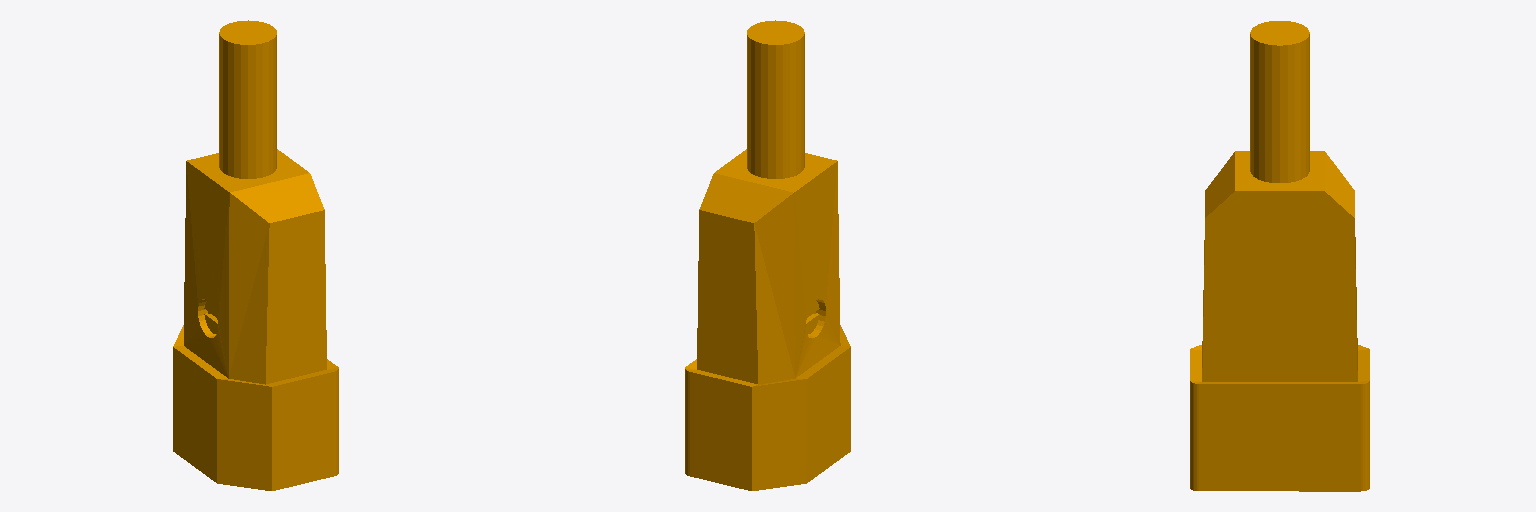
URDF robot description (kettle_socket):
<robot name="kettle_socket" version="0">
    <!--Materials-->
    <material name="socket_cl1919_color_1">
        <color rgba="1.92523003761e-07 0.628753066063 0.914699852467 1"/>
        <luminescence value="0"/>
        <specularExponent value="40"/>
        <specularIntensity value="0.25"/>
    </material>
    <rigidMaterial name="CompliantMaterial" staticFriction="0.40000000596" dynamicFriction="0.20000000298" restitution="0"/>
    <!--Links-->
    <robotProperties maxDepenetrationVelocity="10"/>
    <link name="kettle_link">
        <inertial>
            <origin xyz="0 0 0" rpy="0 -0 0"/>
            <mass value="-1"/>
            <density value="67.2310028076"/>
            <inertia ixx="-1" iyy="-1" izz="-1" ixy="-1" ixz="-1" iyz="-1"/>
        </inertial>
        <visual name="Visual 0">
            <origin xyz="0 0 0.00999999977648" rpy="3.14159265359 1.36535963077e-05 -1.57159273368"/>
            <geometry>
                <mesh filename="package://168852650-53-socket_cl1919/socket_cl1919_with_gap.obj" scale="0.0010000000475 0.0010000000475 0.0010000000475"/>
                <settings planeNormalTolerance="0.949999988079" inflation="0" minThickness="9.99999974738e-05" maxVerts="32" mapResolution="0"/>
                <queryProperties useQueries="true" layer="268435454" mask="4294967295"/>
            </geometry>
            <rgbMaterialRef name="socket_cl1919_color_1"/>
        </visual>
        <collision name="Collision 0">
            <origin xyz="0 0 0.00999999977648" rpy="3.14159265359 1.36535963077e-05 -1.57159273368"/>
            <geometry>
                <mesh_sdf filename="package://168852650-53-socket_cl1919/socket_cl1919_with_gap.obj" scale="0.0010000000475 0.0010000000475 0.0010000000475"/>
                <settings maxResPerAxis="1536" targetSamples="2048"/>
                <queryProperties useQueries="false"/>
            </geometry>
        </collision>
        <rigidMaterialRef name="CompliantMaterial"/>
        <miscellaneous contactOffset="0.001" restOffset="-0.000300000014249"/>
    </link>
</robot>

--- What the picture shows (computed from the rendered views, not written in the file) ---
The picture shows the robot from 3 angles, left to right: view 1: azimuth 30°, elevation 25°; view 2: azimuth 150°, elevation 25°; view 3: azimuth 270°, elevation 25°; orthographic projection.
Robot: kettle_socket — 1 links, 0 joints (none); root link kettle_link; default pose: all joints at 0.
Links seen in each view (by area): view 1: kettle_link; view 2: kettle_link; view 3: kettle_link.
Link boxes in pixels (x1=…): kettle_link: x1=173, y1=20, x2=338, y2=490; kettle_link: x1=685, y1=20, x2=850, y2=490; kettle_link: x1=1190, y1=21, x2=1369, y2=491.
Size in the robot's own frame: 0.0205 by 0.0302 by 0.0802 metres.
Meshes: 1 distinct files referenced, 1 mesh visuals loaded (1 OBJ).
